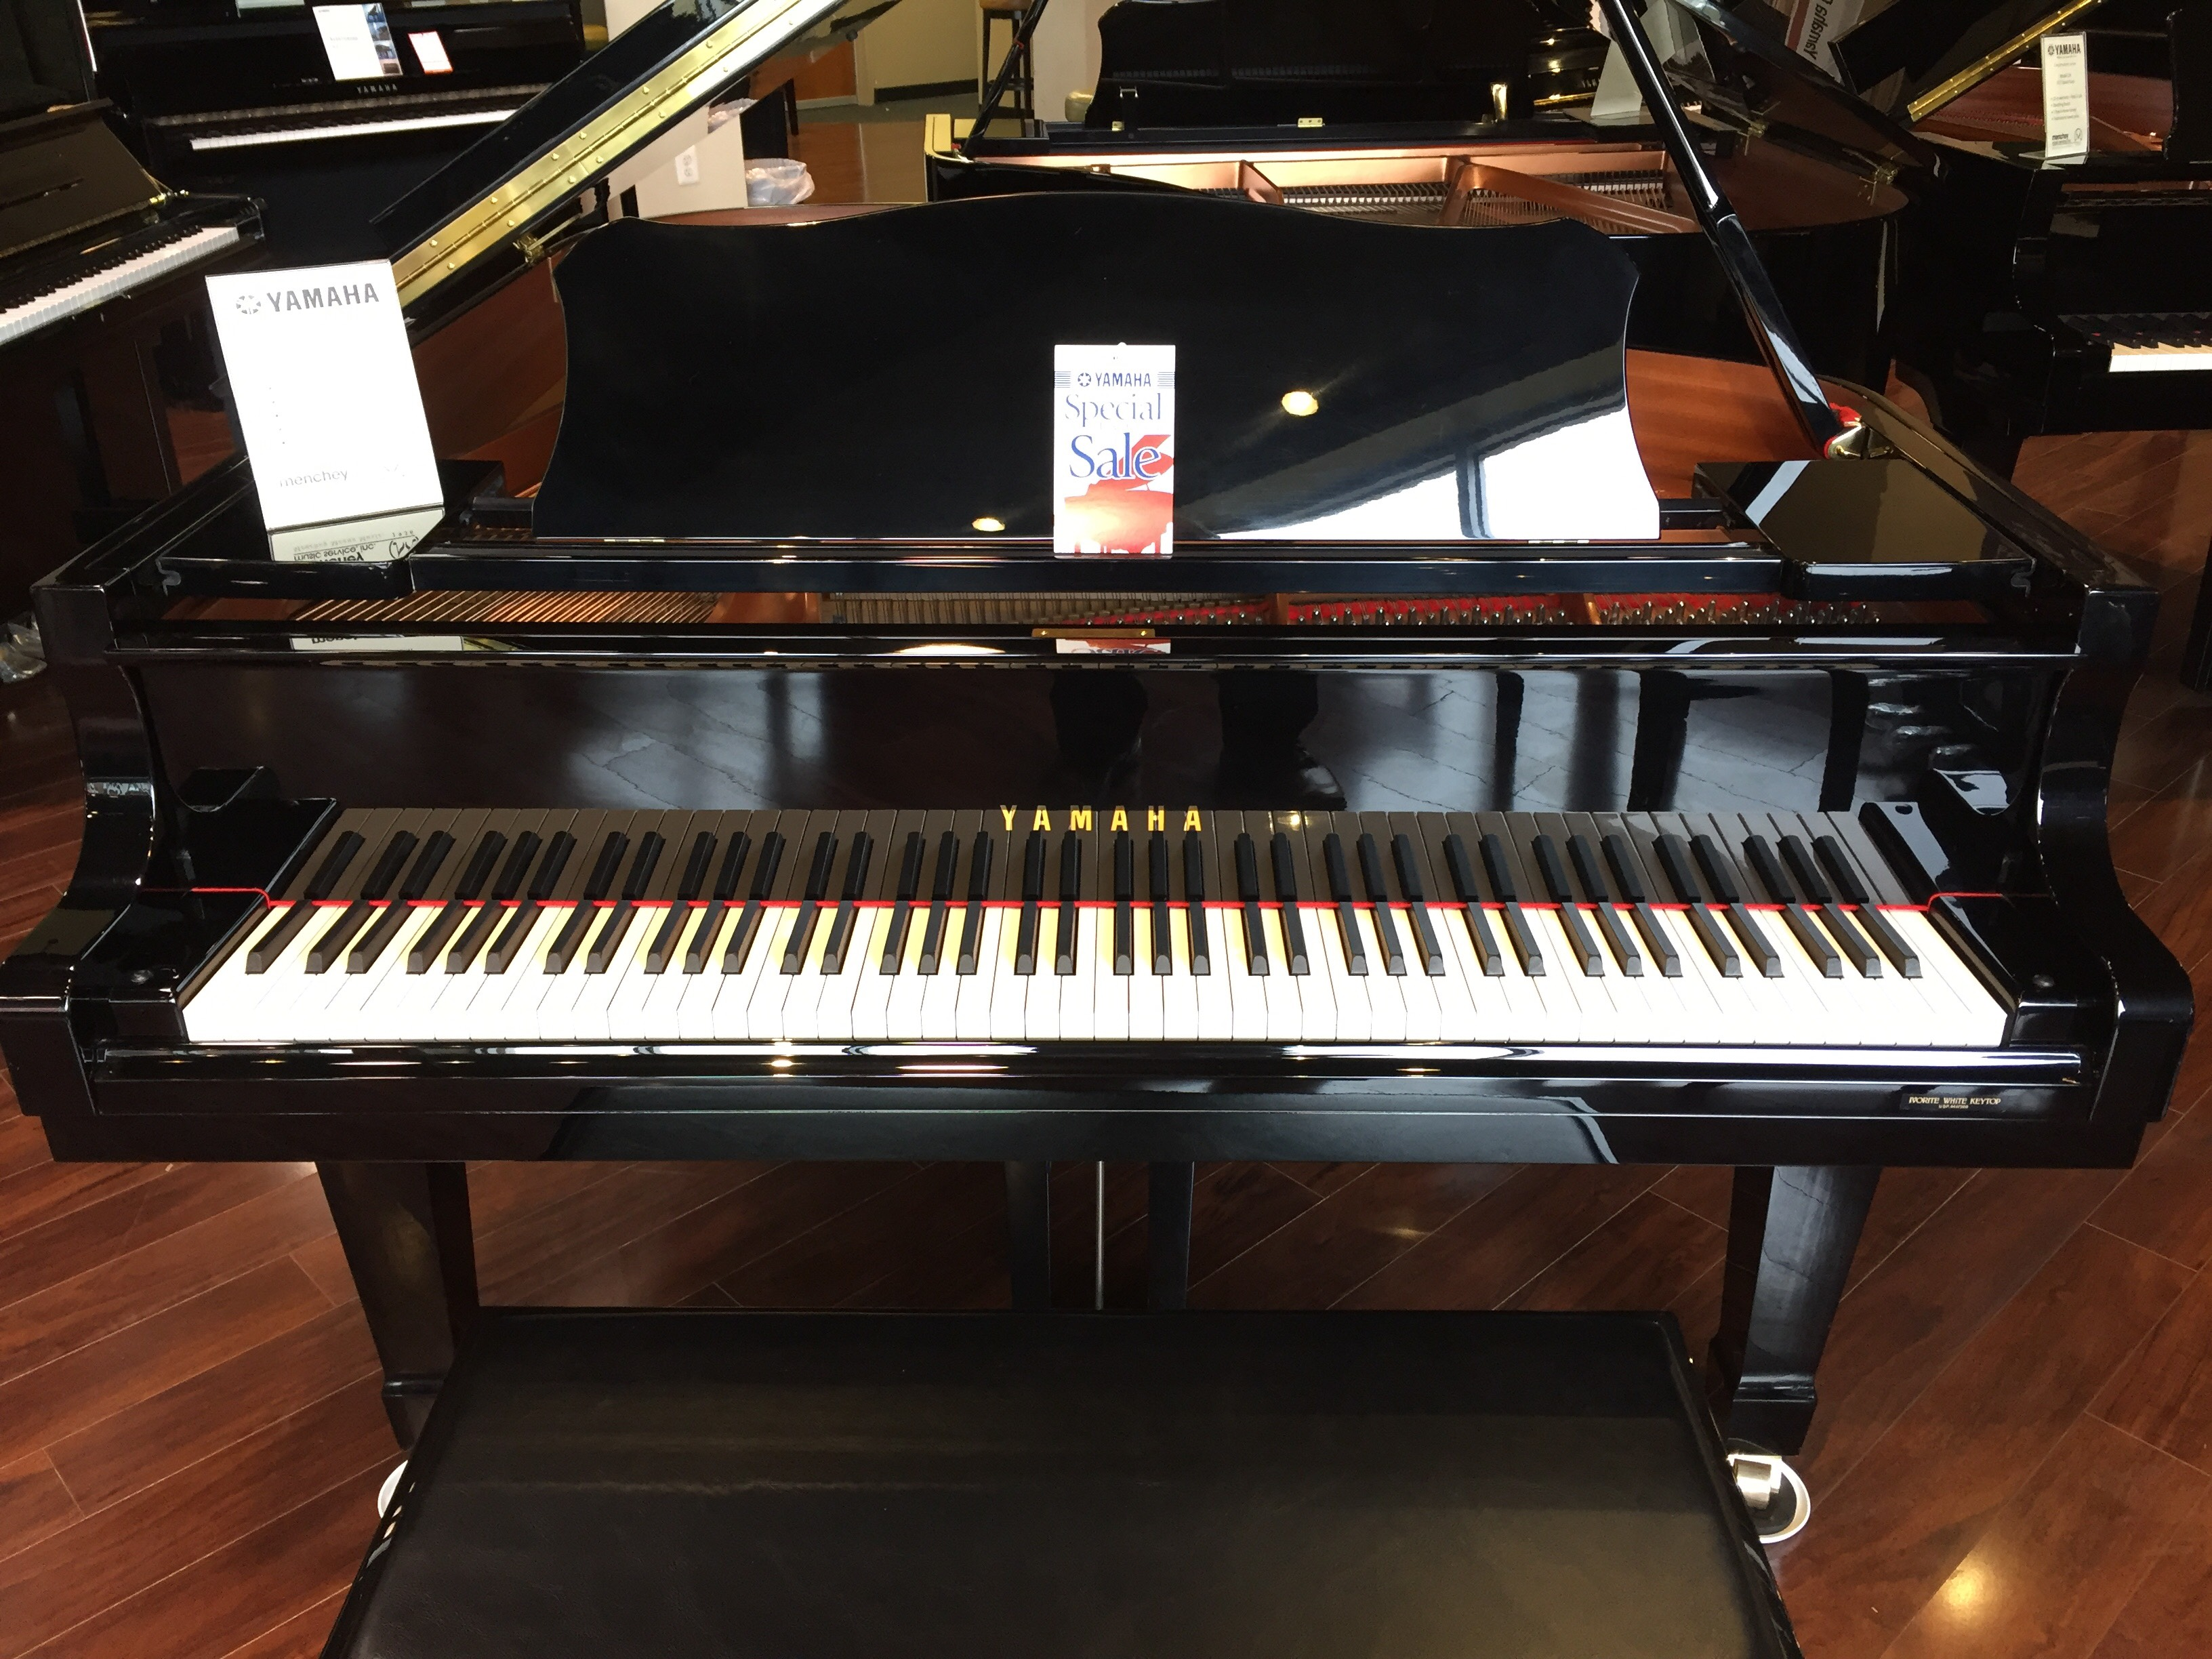GrandPiano: (45, 61, 2189, 1222)
